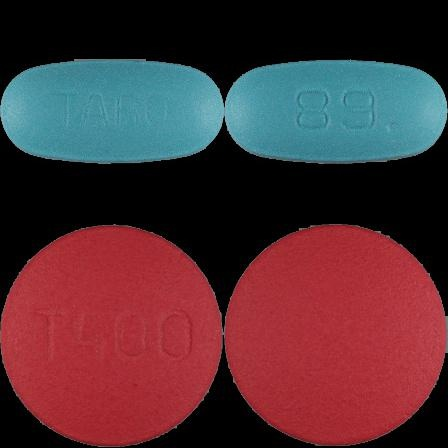60429-312: (0, 0, 224, 224)
